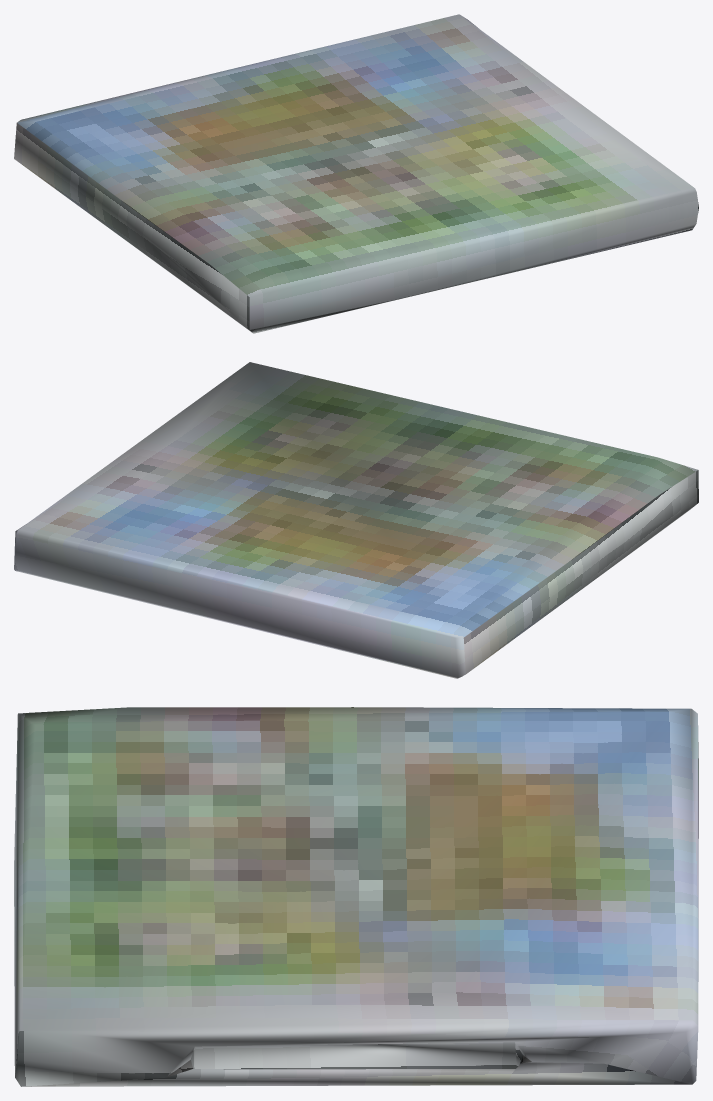
The model's file is Animal_Crossing_New_Leaf_Nintendo_3DS_Game-low.glb.
3 renders of one model, top to bottom at view 1: azimuth 30°, elevation 25°; view 2: azimuth 150°, elevation 25°; view 3: azimuth 270°, elevation 25°, orthographic. The views are drawn at different scales.
Visible parts, largest first — view 1: Animal_Crossing_New_Leaf_Nintendo_3DS_Game; view 2: Animal_Crossing_New_Leaf_Nintendo_3DS_Game; view 3: Animal_Crossing_New_Leaf_Nintendo_3DS_Game.
Part boxes in pixels (x1,y1,x2,y2): Animal_Crossing_New_Leaf_Nintendo_3DS_Game: [14, 14, 698, 333]; Animal_Crossing_New_Leaf_Nintendo_3DS_Game: [14, 362, 698, 678]; Animal_Crossing_New_Leaf_Nintendo_3DS_Game: [14, 707, 698, 1086].
Size of the model in its own units: 0.137 by 0.0146 by 0.1235.
1 material, 1 textured.
